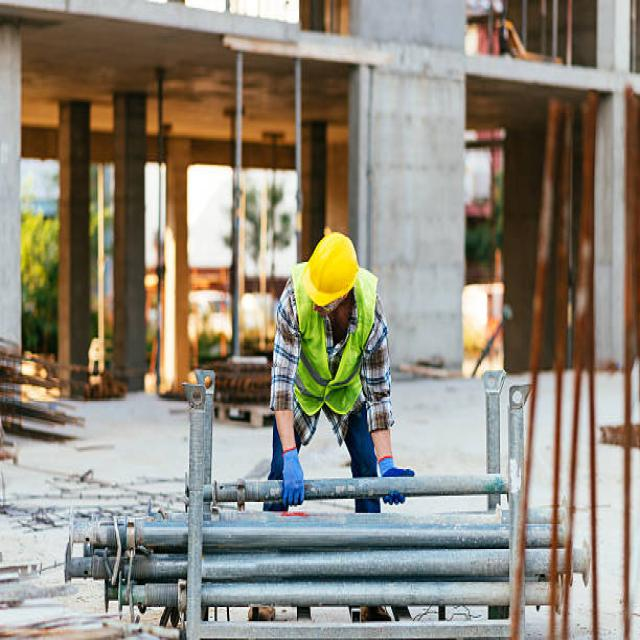gloves: (378, 450, 414, 502), (280, 446, 306, 504)
